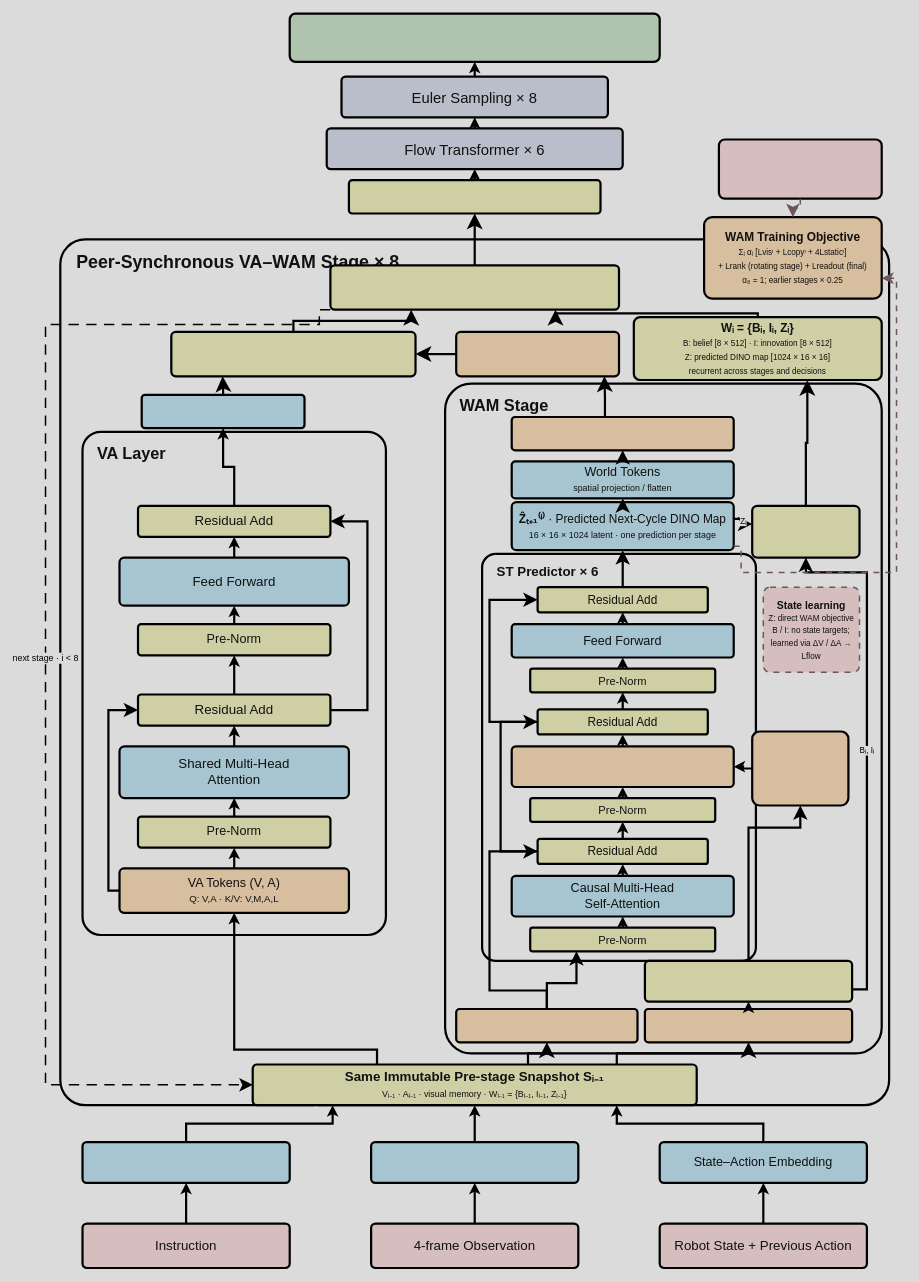
This 919x1282 diagram has some shape labels left out. Each missing label, with the centre of its shape:
Condition K/V executable H6 action sg(Bᵢ) · proprio · task: pixel 800 768
Conditional Cross-Attention: pixel 622 766
DINO Clip Tokens 4 frames + previous Z refinement: pixel 546 1025
DINO Visual Embedding: pixel 474 1162
Evidence Cross-Attention → Eᵢ: pixel 748 1025
Gated Latent ΔV, ΔA: pixel 537 353
Gated Merge Vᵢ, Aᵢ: pixel 293 353
Gated World Mixer: pixel 622 433
H6 × 4 Action Chunk: pixel 474 37
Innovation & Belief Write Iᵢ = Eᵢ − Êᵢ · Bᵢ ← Bᵢ₋₁ + Attn(B, I): pixel 748 980
Layer Norm (A₈ only): pixel 474 196
Pack Wᵢ Bᵢ · Iᵢ · Zᵢ: pixel 805 531
Qwen Language Cache: pixel 185 1162
sg(Zₜ₊₁) Future last-frame DINO map 16 × 16 × 1024 · loss-side only: pixel 799 168
Stage Commit Sᵢ (Vᵢ, Aᵢ, World Stateᵢ): pixel 474 287
VA Proposal: pixel 222 411
